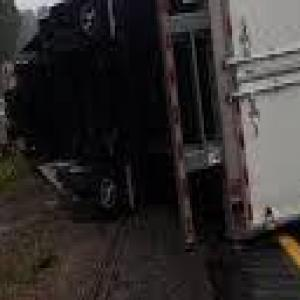serious: (0, 0, 300, 262)
